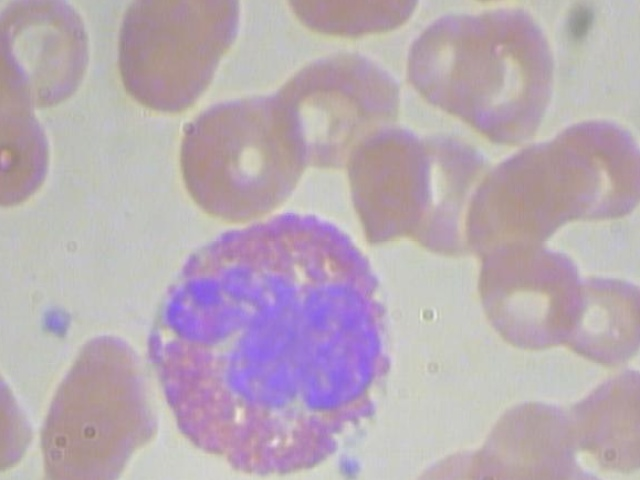Platelets: (38, 296, 79, 345)
RBC: (445, 3, 563, 153), (169, 88, 297, 222), (105, 0, 233, 116), (464, 242, 583, 361), (400, 0, 506, 127), (0, 0, 109, 114)
WBC: (132, 197, 404, 480)
